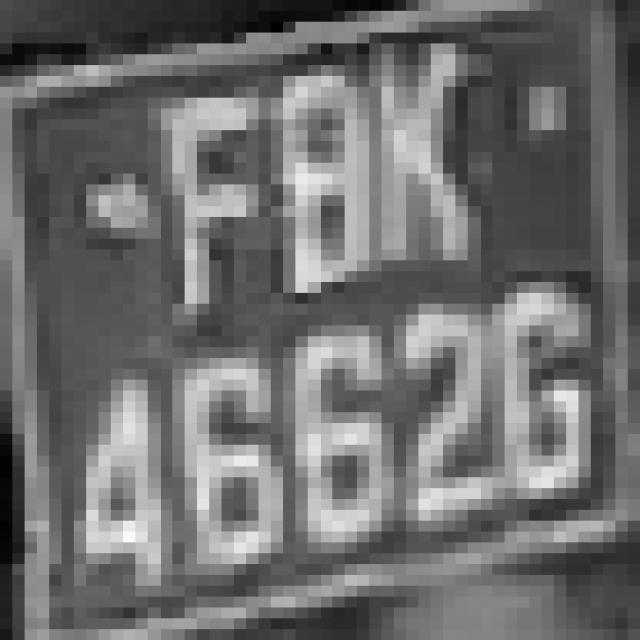2: (369, 260, 517, 542)
4: (37, 347, 197, 608)
6: (259, 304, 406, 553), (148, 347, 308, 575)
B: (222, 55, 369, 336)
F: (135, 65, 271, 326)
G: (492, 271, 603, 521)
K: (320, 22, 529, 260)
